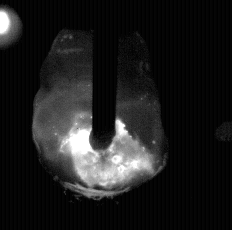arame: (93, 0, 117, 150)
poca: (32, 0, 164, 230)
